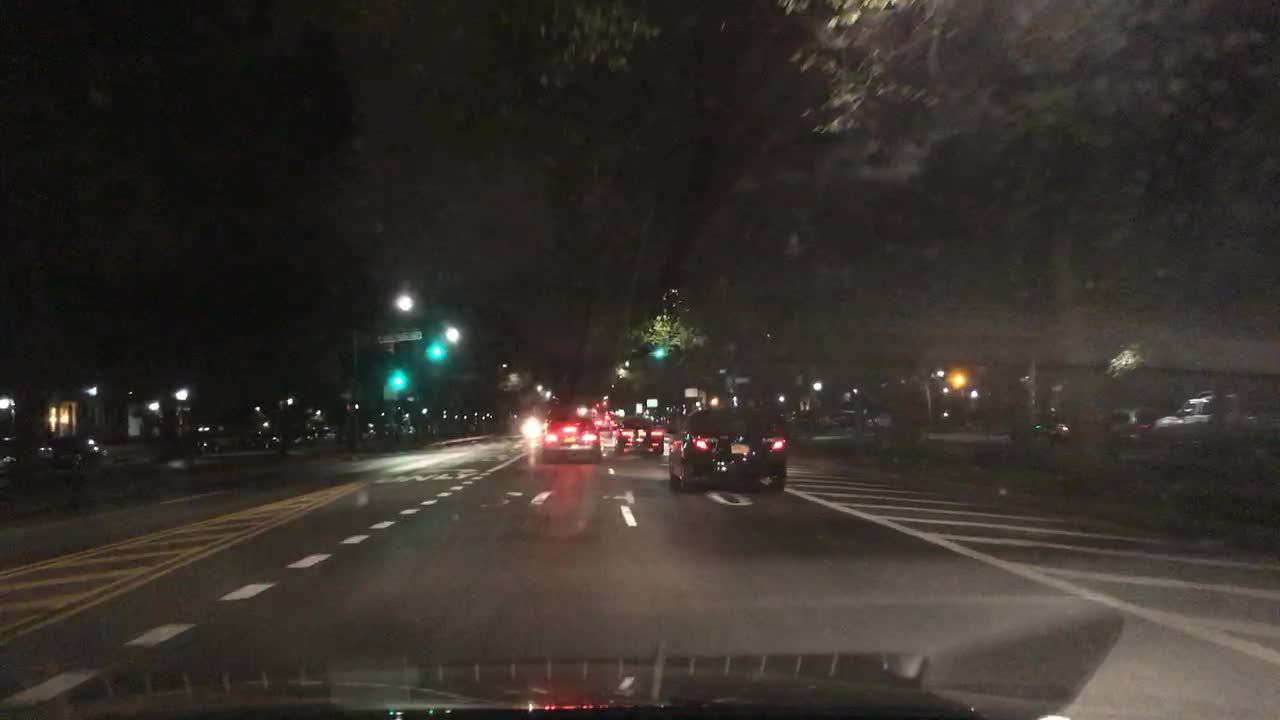car: (667, 404, 788, 496), (1155, 387, 1279, 454), (4, 431, 107, 481), (541, 416, 602, 464), (1105, 405, 1160, 447), (612, 414, 665, 454), (196, 430, 235, 454), (1039, 424, 1075, 446), (261, 427, 298, 448), (519, 415, 548, 437), (814, 413, 850, 430), (785, 408, 812, 430), (864, 411, 894, 428), (238, 430, 260, 449), (320, 425, 340, 441), (299, 430, 321, 444), (598, 425, 612, 442), (366, 425, 379, 441), (607, 422, 621, 435)
traffic light: (427, 337, 449, 360), (389, 368, 408, 390), (949, 367, 968, 386), (653, 342, 668, 357), (1034, 418, 1041, 431), (592, 398, 601, 408)
traffic sign: (376, 331, 422, 342), (683, 387, 697, 397), (646, 398, 657, 407), (735, 376, 749, 382), (635, 403, 642, 413)
